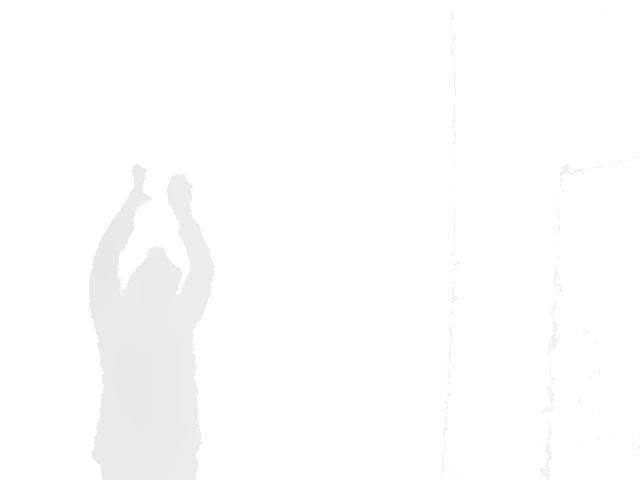hand: (120, 162, 153, 213), (165, 173, 193, 211)
head: (122, 245, 183, 296)
person: (86, 162, 215, 480)
